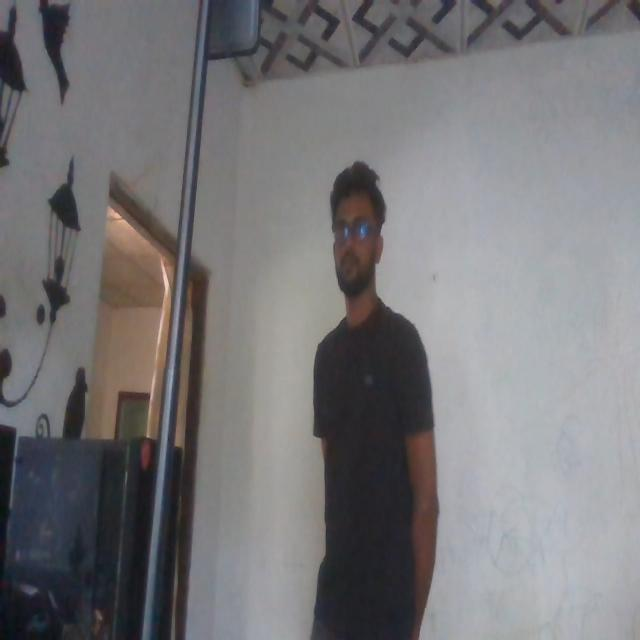Person: (305, 183, 423, 640)
